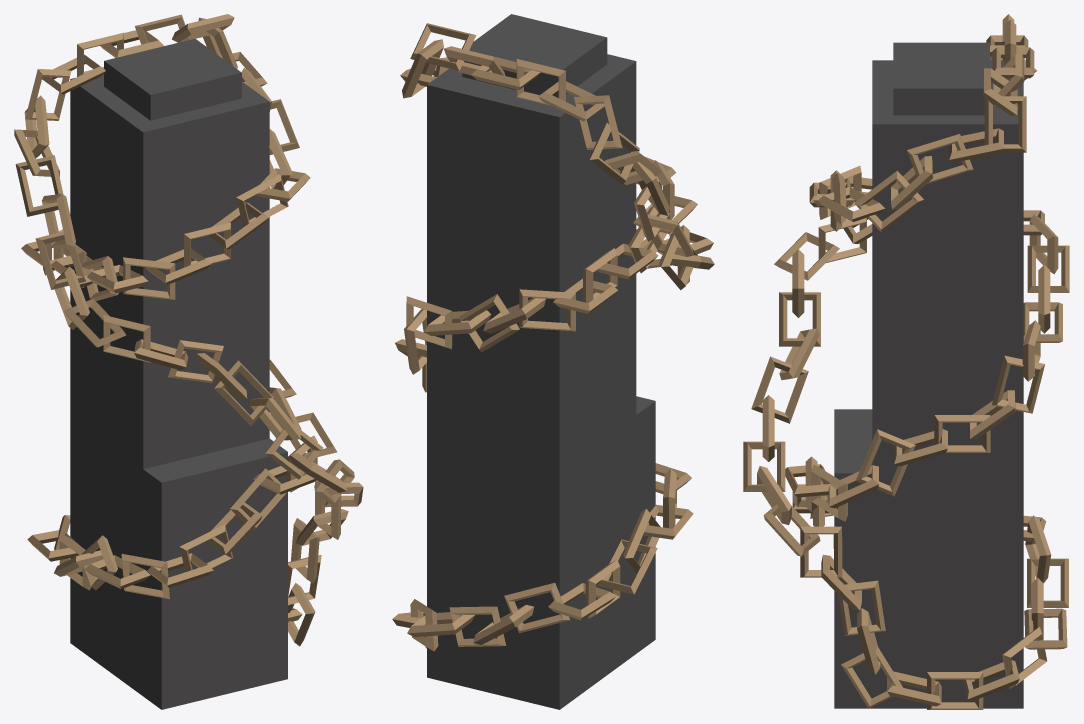
Rendered from sealedsword_nal.obj.
3 views of the same model, side by side, from view 1: azimuth 30°, elevation 25°; view 2: azimuth 150°, elevation 25°; view 3: azimuth 270°, elevation 25° (orthographic). The views are drawn at different scales.
Visible parts, largest first — view 1: Cube; view 2: Cube; view 3: Cube.
Boxes of the visible parts, box(x1,y1,x2,y2) form: Cube: box(14, 14, 363, 709); Cube: box(392, 14, 714, 709); Cube: box(743, 14, 1069, 709).
Size of the model in its own units: 4.07 by 9.16 by 4.31.
